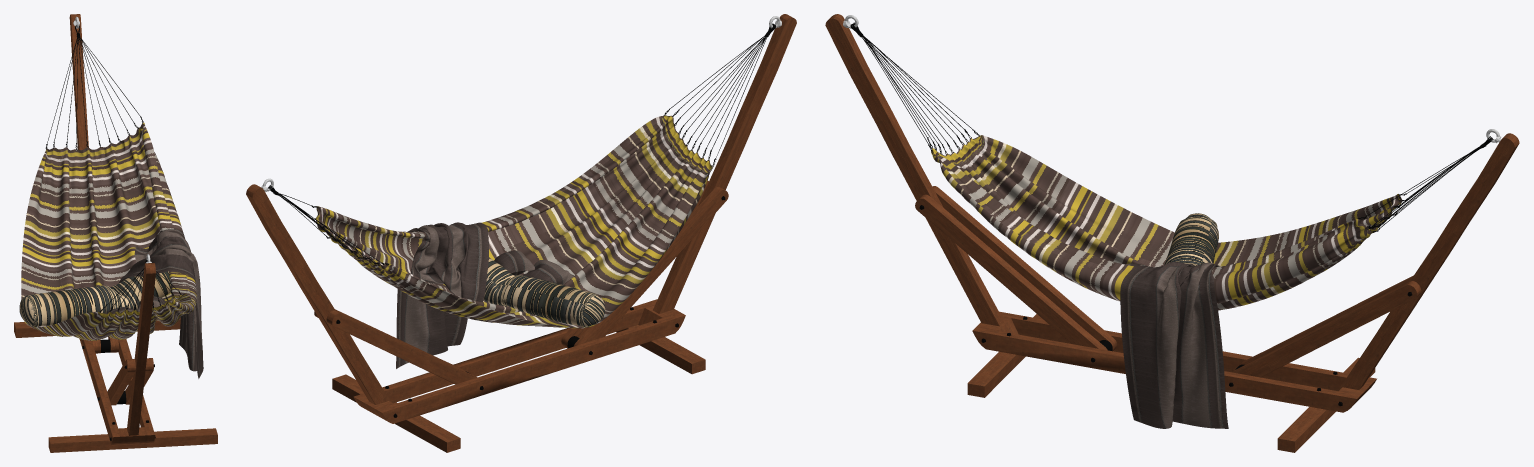
File: Hammock.fbx
3 renders of one model, left to right at view 1: azimuth 30°, elevation 25°; view 2: azimuth 150°, elevation 25°; view 3: azimuth 270°, elevation 25°, orthographic. The views are drawn at different scales.
Visible parts, largest first — view 1: hammock02-01; view 2: hammock02-01; view 3: hammock02-01.
Part boxes in pixels (x1=…): hammock02-01: x1=14, y1=14, x2=217, y2=452; hammock02-01: x1=246, y1=14, x2=796, y2=452; hammock02-01: x1=825, y1=14, x2=1519, y2=452.
Size of the model in its own units: 142 by 147 by 299.
18 materials, 4 textured.
